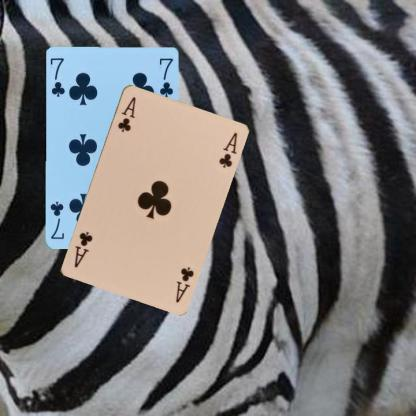7c: (48, 56, 66, 99)
Ac: (172, 263, 196, 304), (115, 93, 137, 134)
